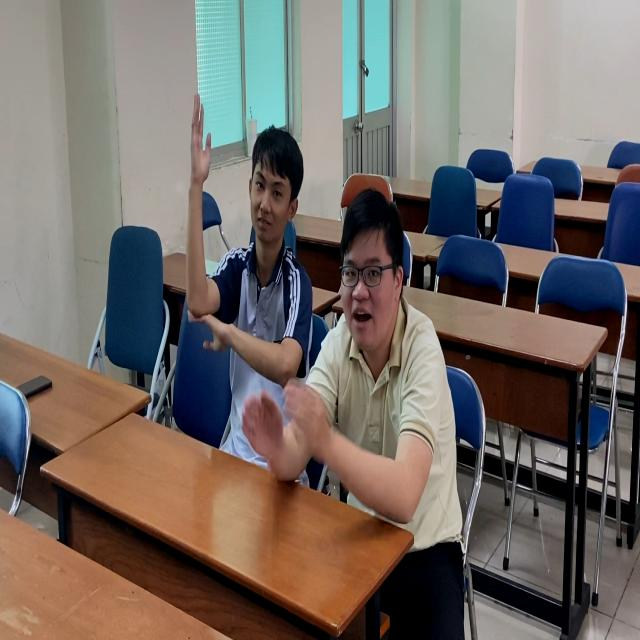raise_hand: (174, 78, 313, 498)
